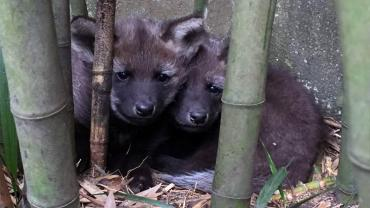LoboGuara: (67, 8, 202, 151), (185, 41, 309, 188)
